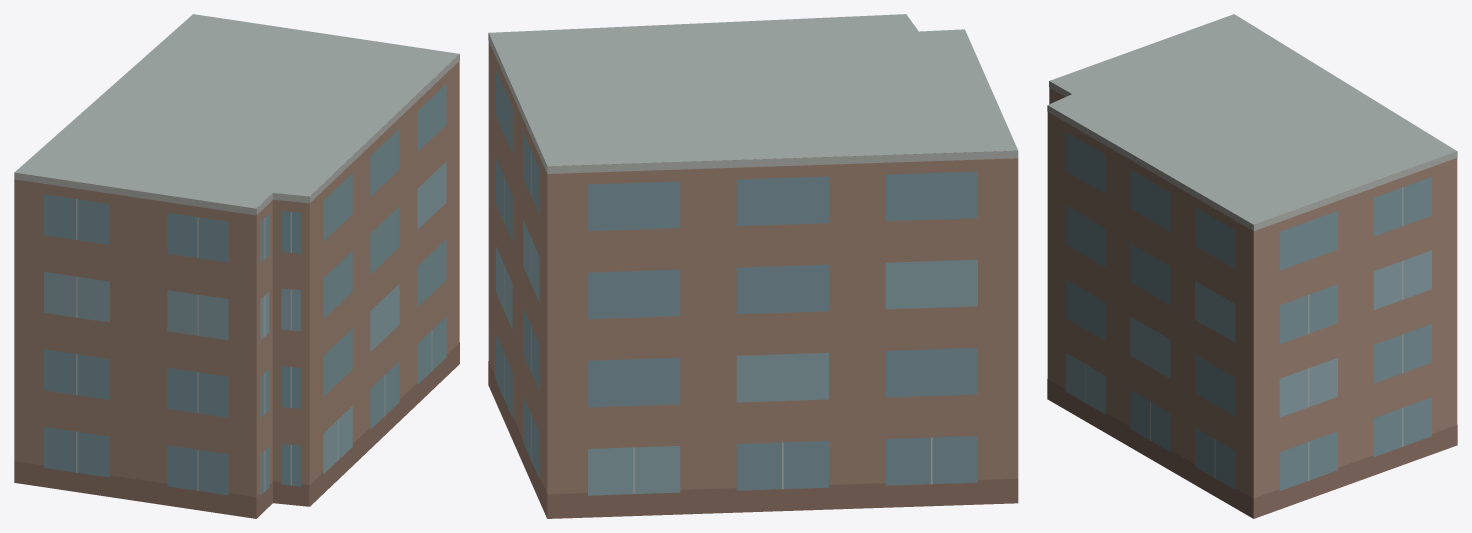
File: survey-upis-33039930.glb
The picture shows the model from 3 angles, left to right: view 1: azimuth 30°, elevation 25°; view 2: azimuth 150°, elevation 25°; view 3: azimuth 270°, elevation 25°; orthographic projection. The views are drawn at different scales.
Visible parts, largest first — view 1: survey-upis-33039930.tmp; view 2: survey-upis-33039930.tmp; view 3: survey-upis-33039930.tmp.
Boxes of the visible parts, x1,y1,x2,y2 form: survey-upis-33039930.tmp: [14, 14, 459, 518]; survey-upis-33039930.tmp: [488, 14, 1018, 518]; survey-upis-33039930.tmp: [1047, 14, 1457, 518].
Bounding box in the file's own units: 17.15 × 11.15 × 14.09.
